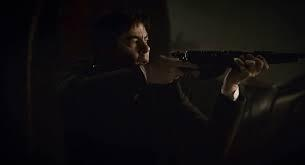rifle: (91, 50, 305, 78)
